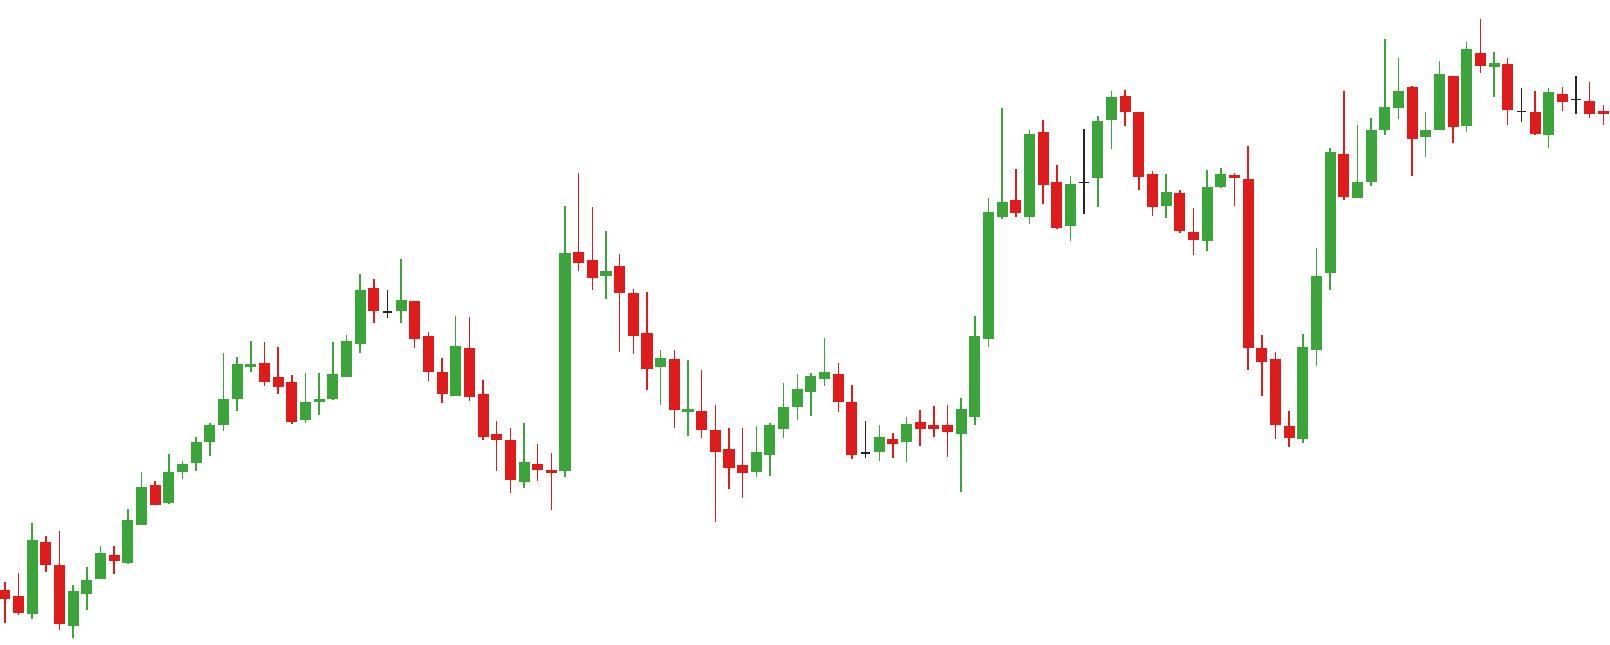sell: (393, 173, 598, 335), (995, 85, 1132, 186)
